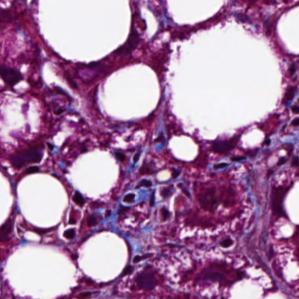inflammation: (207, 149, 298, 182), (117, 175, 179, 211), (56, 187, 90, 244), (0, 62, 33, 94), (210, 231, 241, 252)
